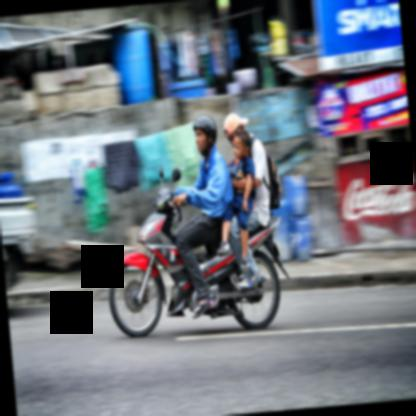backpack: (266, 154, 282, 210)
